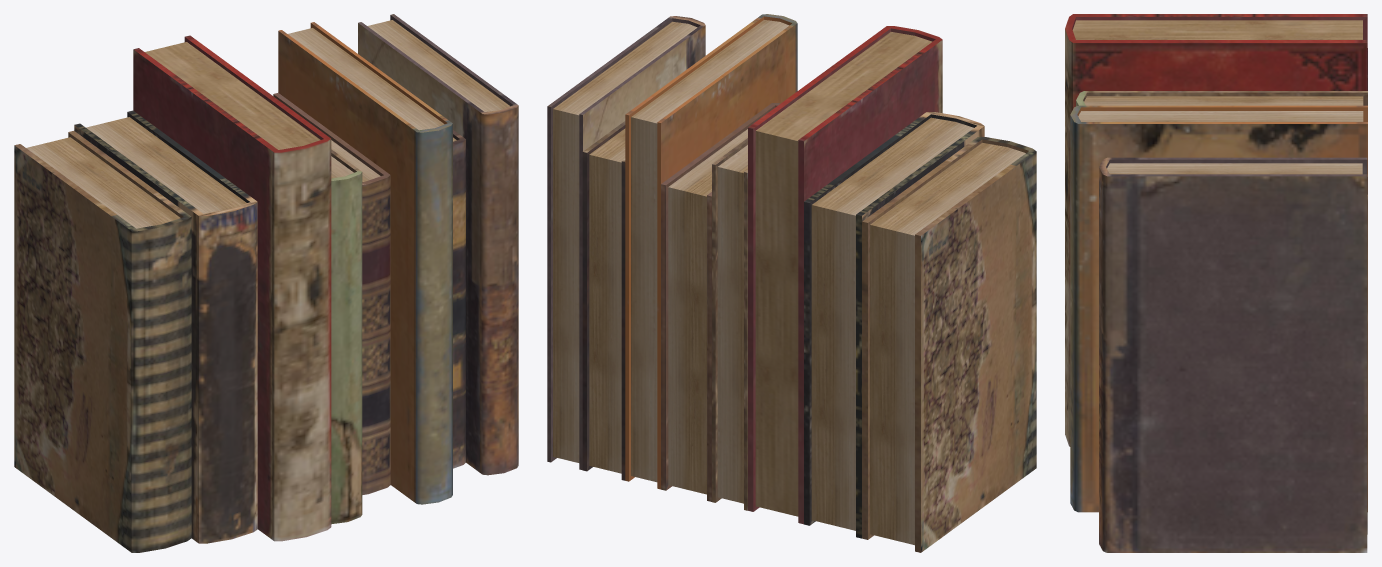
File: SM_Book_Old.026.fbx
The picture shows the model from 3 angles, left to right: view 1: azimuth 30°, elevation 25°; view 2: azimuth 150°, elevation 25°; view 3: azimuth 270°, elevation 25°; orthographic projection. The views are drawn at different scales.
Visible parts, largest first — view 1: SM_Book_Old.026; view 2: SM_Book_Old.026; view 3: SM_Book_Old.026.
Part boxes in pixels (x1,y1,x2,y2): SM_Book_Old.026: (14, 14, 518, 552); SM_Book_Old.026: (547, 14, 1036, 552); SM_Book_Old.026: (1065, 14, 1367, 552).
Size of the model in its own units: 0.3521 by 0.345 by 0.233.
